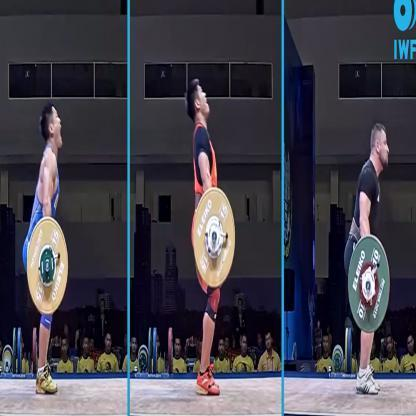barbell: (347, 232, 392, 333), (193, 188, 234, 286), (26, 217, 67, 314)
